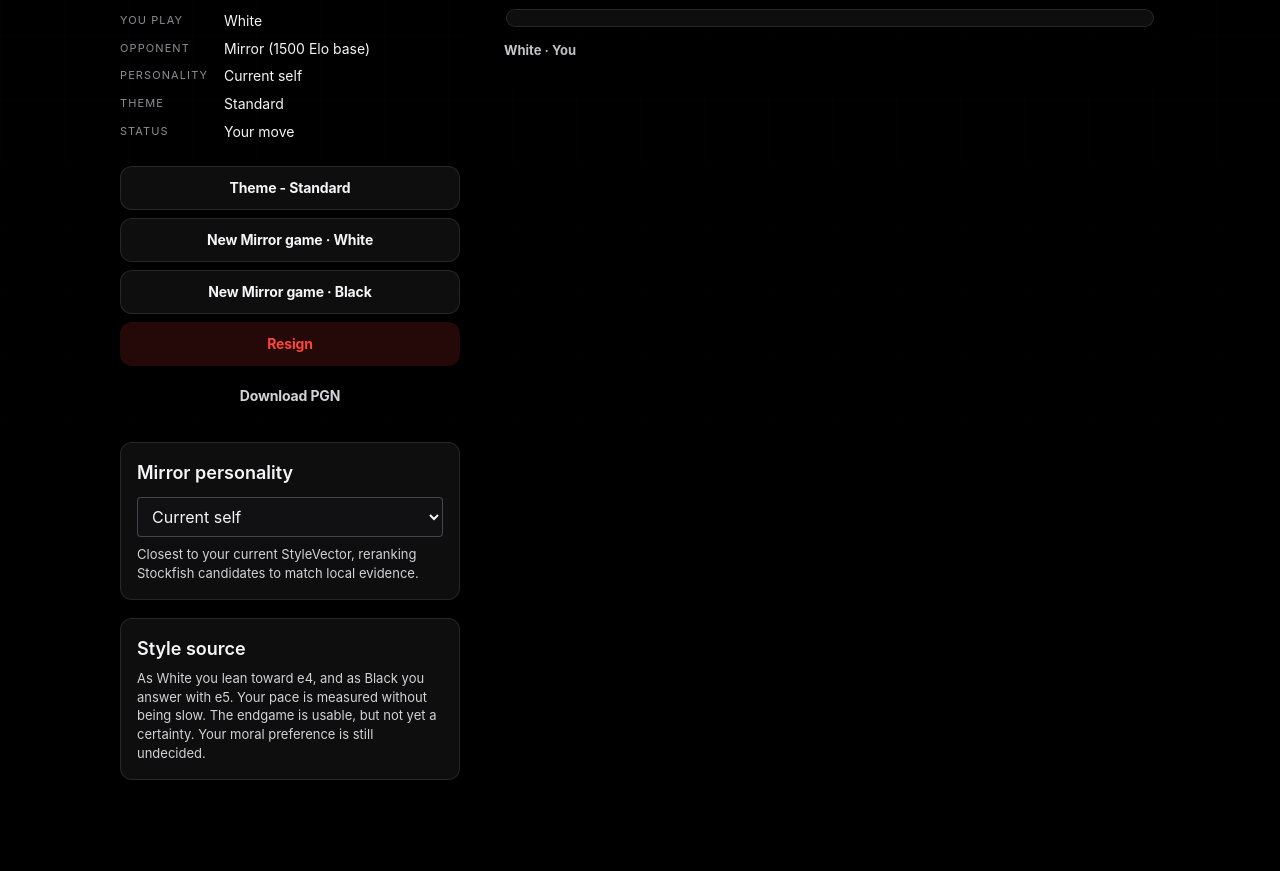
Mirror match persistence failure recovery › does not latch a failed save and allows the completed match to be retried
The image size is (1280, 871).
Click the button "Resign" at (290, 344), box left=120, top=322, right=460, bottom=366
(page scrolled)
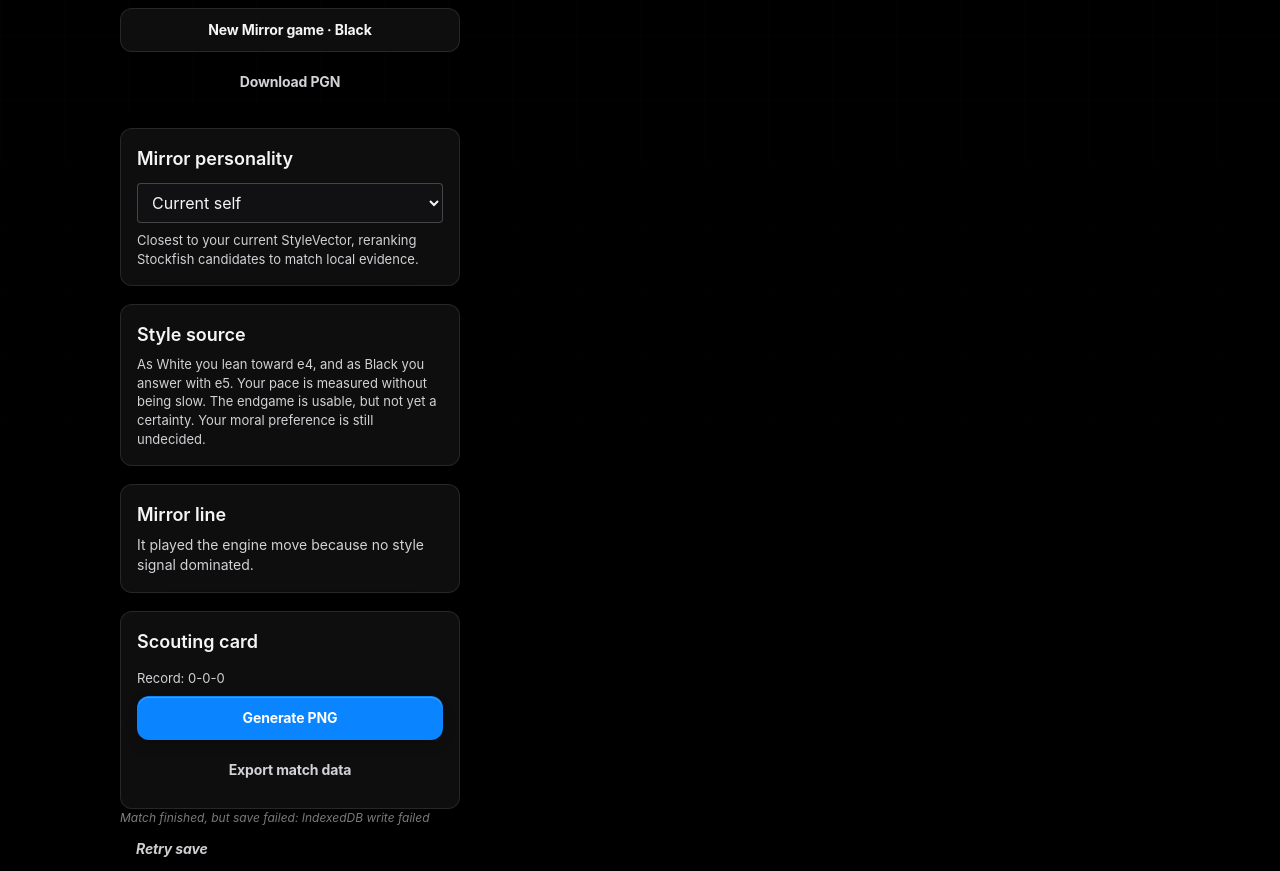
Result: the text "Match finished, but save failed: IndexedDB write failed" is shown at left=120, top=810, right=430, bottom=825
Click the button "Retry save" at (172, 849), box left=120, top=827, right=224, bottom=870
(page scrolled)
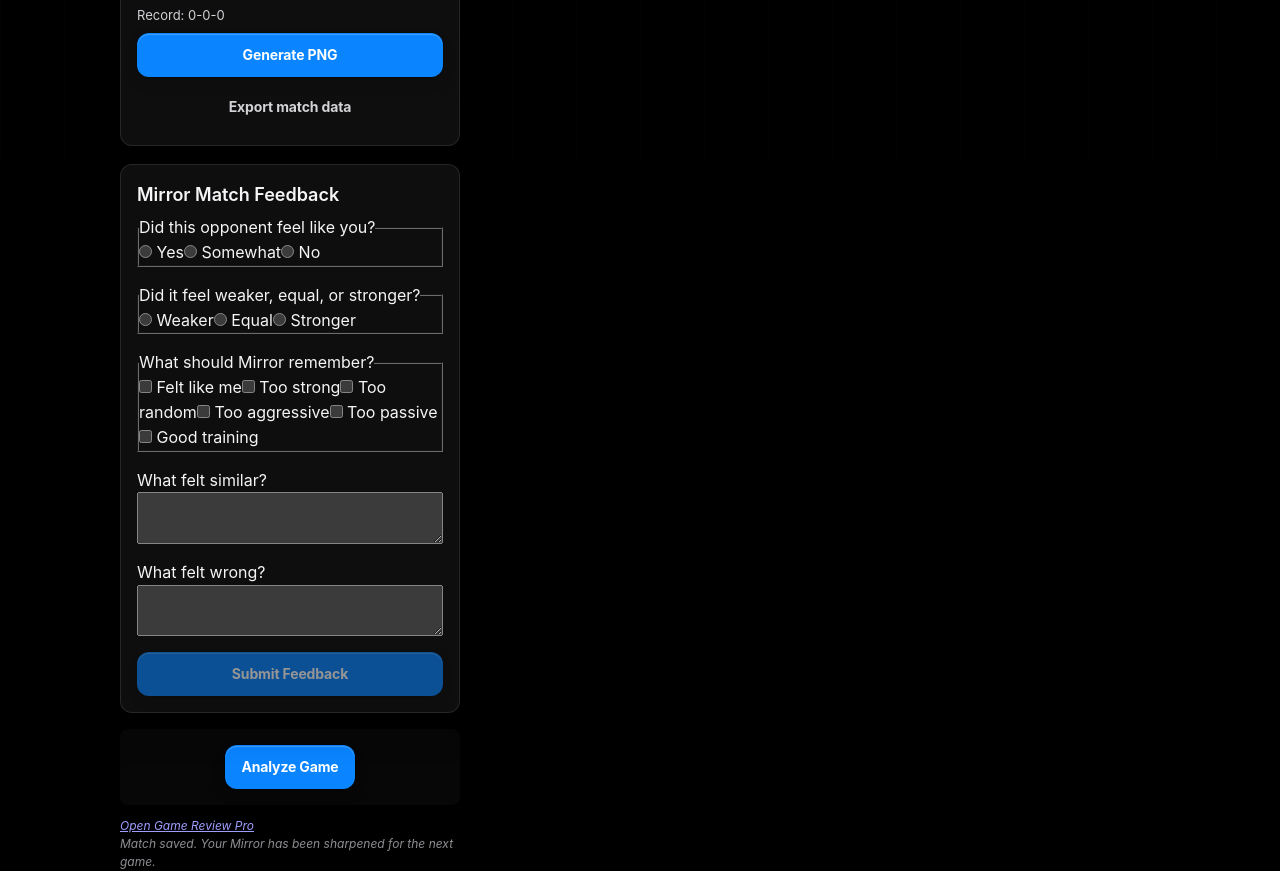
Result: the text "Match saved. Your Mirror has been sharpened" is shown at left=120, top=836, right=453, bottom=869
